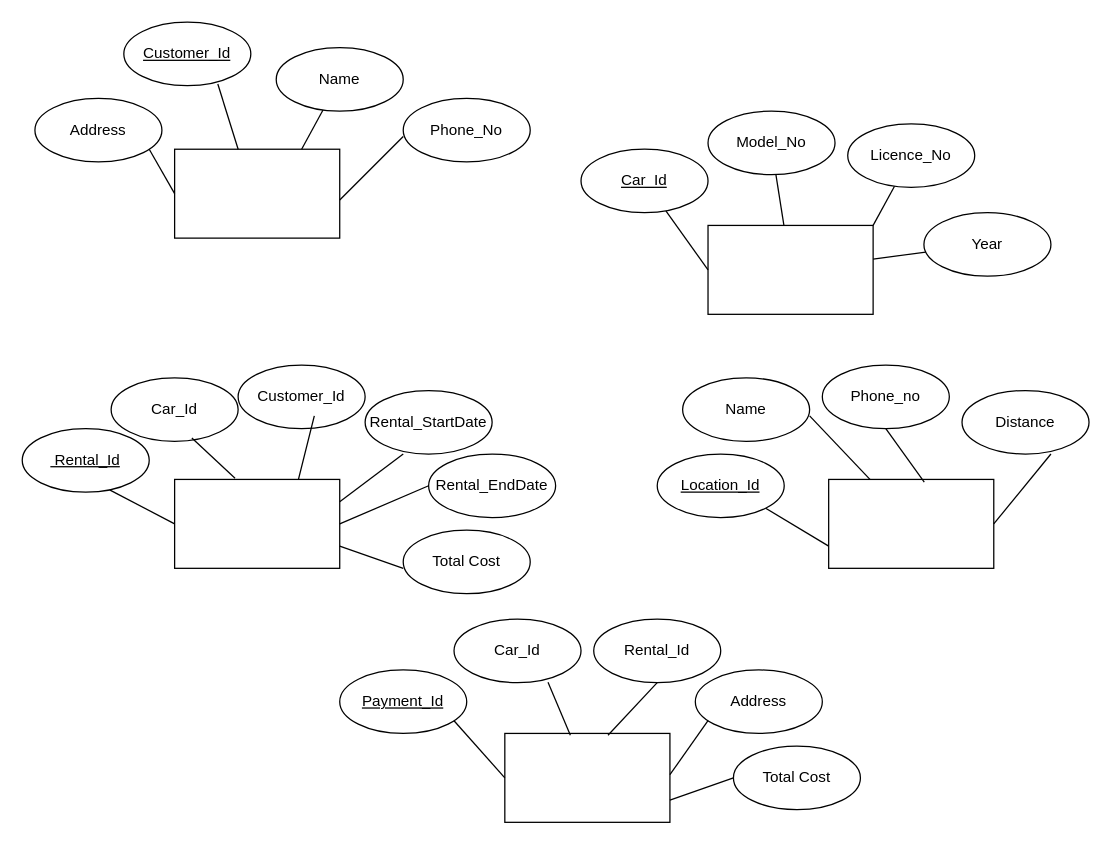
This 1111x845 diagram has some shape labels left out. The shapes that lost their labels are listed below. From the top down, each one's centre as x and y in pixels, then its label:
(x=256, y=193): Customer
(x=790, y=269): Cars
(x=256, y=523): Rental
(x=910, y=523): Location
(x=587, y=777): Payment
